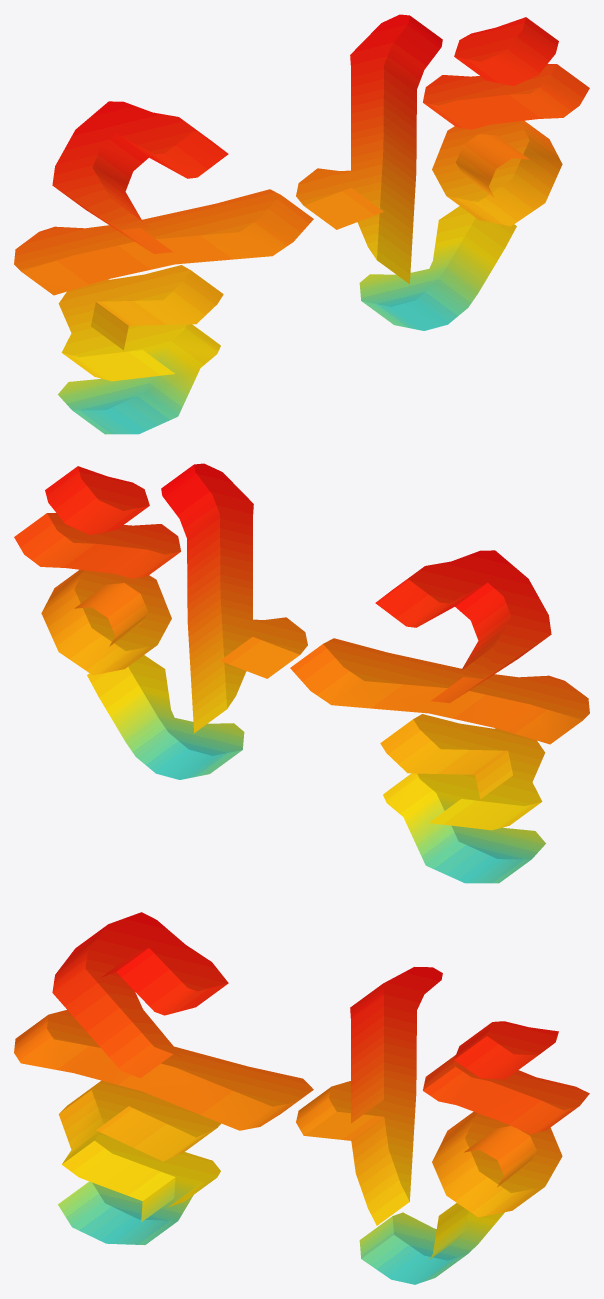
The model's file is ps2_save-icons_simple2000seriesvol77thehanasoukankokugonotab.glb.
3 views of the same model, one above another, from view 1: azimuth 30°, elevation 25°; view 2: azimuth 150°, elevation 25°; view 3: azimuth 330°, elevation 25° (orthographic).
Parts seen in each view (by area): view 1: ICON.ICO; view 2: ICON.ICO; view 3: ICON.ICO.
Part boxes in pixels (x1,y1,x2,y2): ICON.ICO: (14, 14, 589, 434); ICON.ICO: (14, 463, 589, 883); ICON.ICO: (14, 912, 589, 1284).
Size of the model in its own units: 4.76 by 2.71 by 0.5.
Materials: 1 (1 with a texture image).
